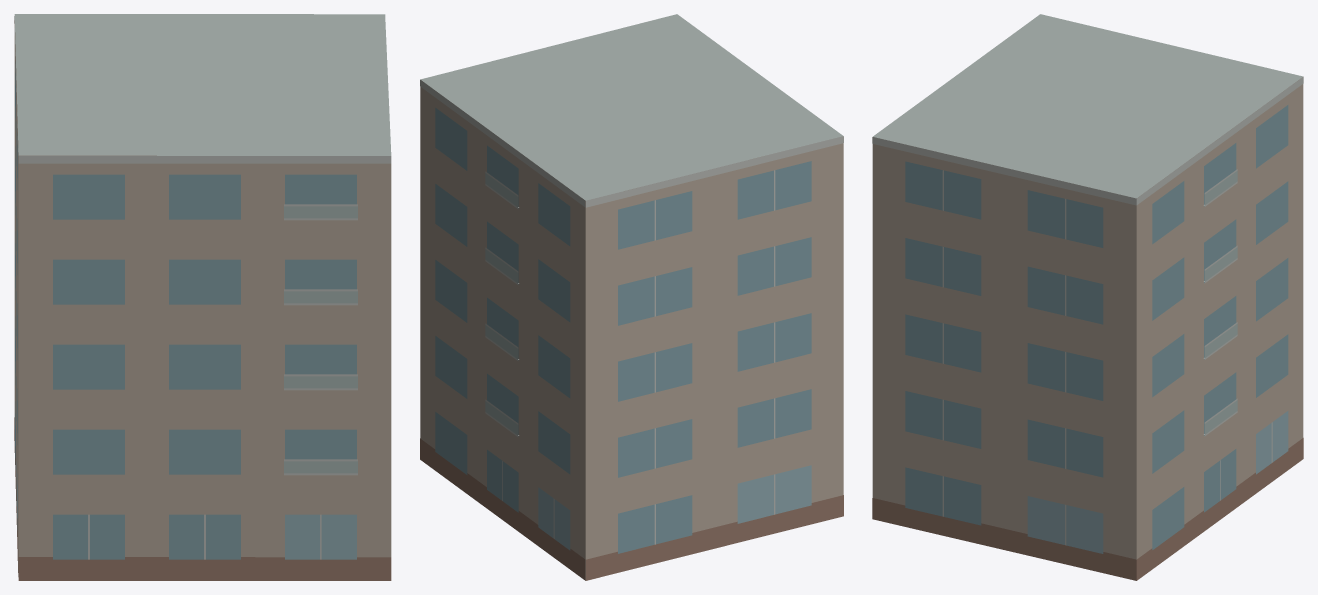
The model's file is survey-upis-32983887.glb.
3 views of the same model, side by side, from view 1: azimuth 30°, elevation 25°; view 2: azimuth 150°, elevation 25°; view 3: azimuth 270°, elevation 25° (orthographic). The views are drawn at different scales.
Parts seen in each view (by area): view 1: survey-upis-32983887.tmp; view 2: survey-upis-32983887.tmp; view 3: survey-upis-32983887.tmp.
Boxes of the visible parts, x1=… form: survey-upis-32983887.tmp: x1=14, y1=14, x2=391, y2=580; survey-upis-32983887.tmp: x1=420, y1=14, x2=843, y2=580; survey-upis-32983887.tmp: x1=872, y1=14, x2=1303, y2=580.
Bounding box in the file's own units: 13.66 × 13.2 × 13.49.
